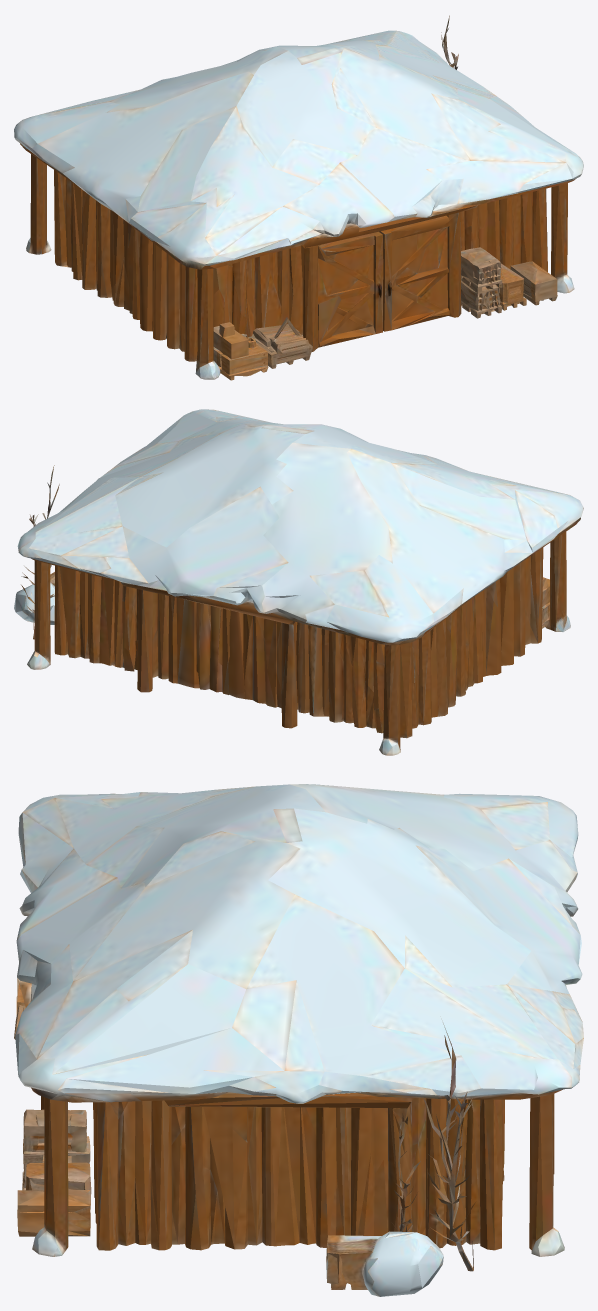
File: warehouse.glb
3 views of the same model, one above another, from view 1: azimuth 30°, elevation 25°; view 2: azimuth 150°, elevation 25°; view 3: azimuth 270°, elevation 25° (orthographic). The views are drawn at different scales.
Bounding box in the file's own units: 1.9 × 0.8567 × 1.42.
Materials: 1 (1 with a texture image).
